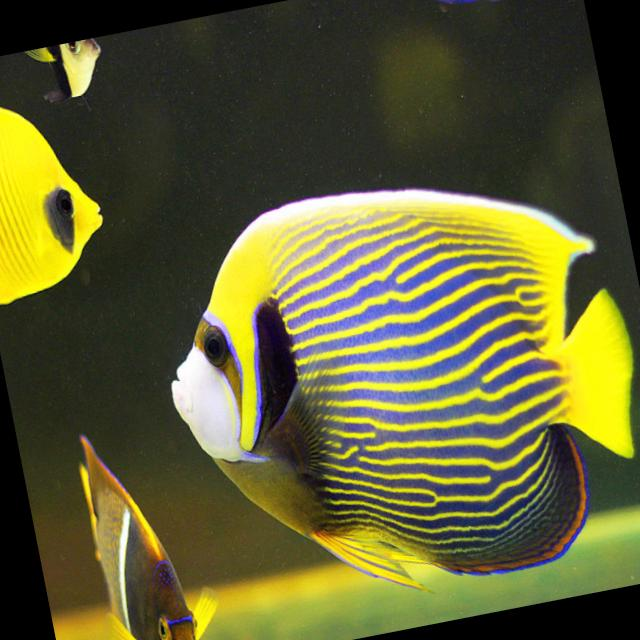AngelFish: (143, 139, 640, 630)
